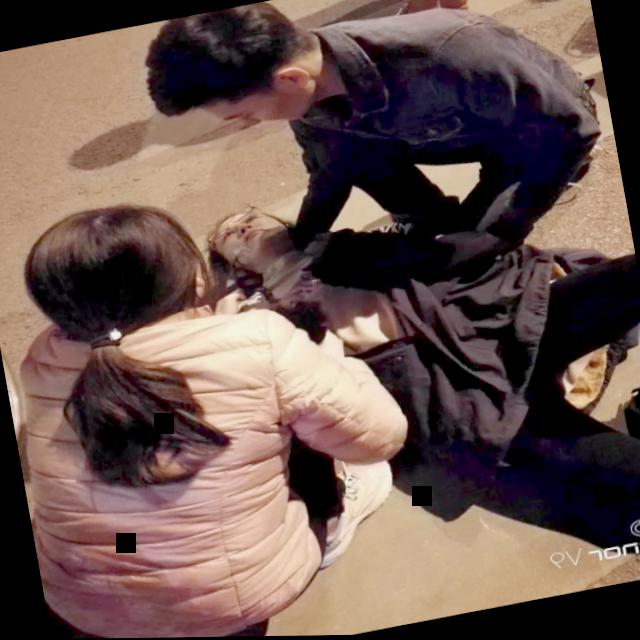Fall-Detected: (182, 131, 640, 638)
